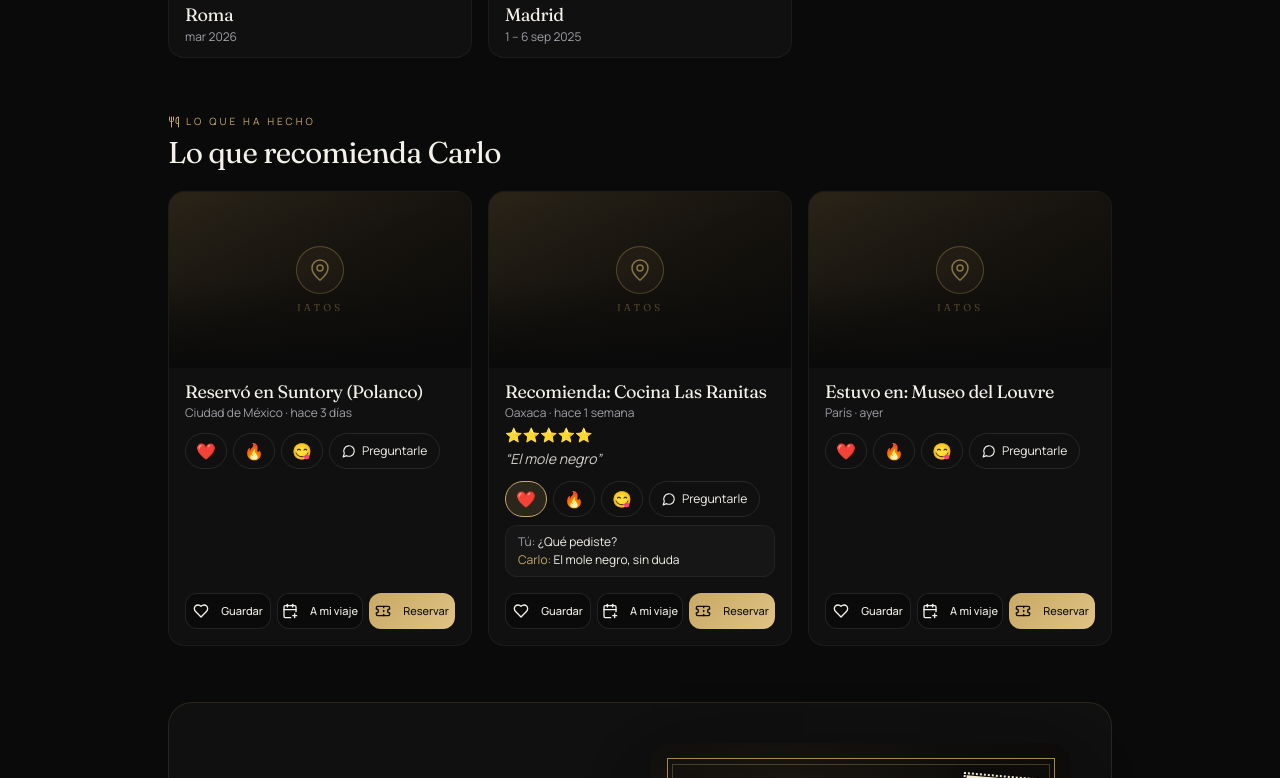
Scenario: actividad del amigo › «Preguntarle» manda la pregunta por RPC y la deja esperando respuesta
The width and height of the screenshot is (1280, 778).
(page scrolled)
Step 1. Click the button "Preguntarle" below "Ciudad de México · hace 3 días" → (385, 451), box [329, 433, 440, 469]
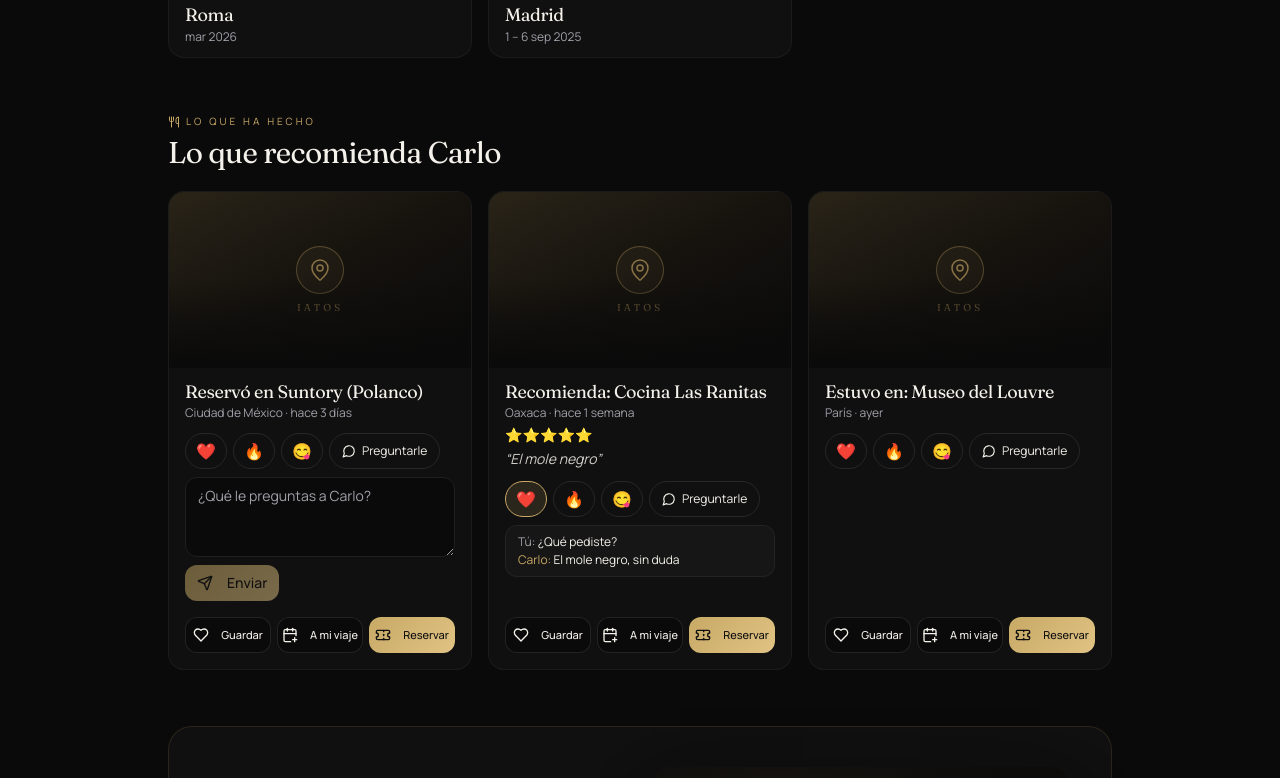
Step 2. Type "¿Qué pediste?" into the text box named "Pregunta para Carlo" → (320, 517), box [185, 477, 455, 557]
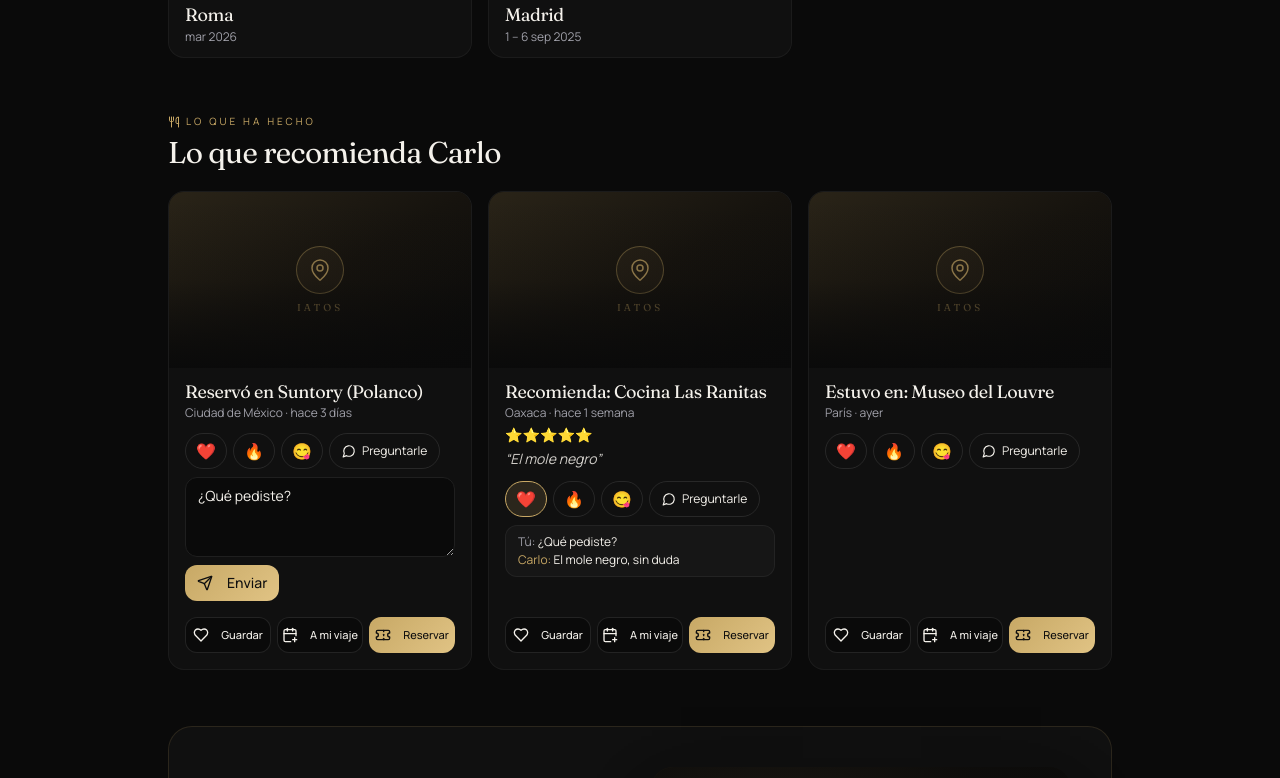
Step 3. Click the button "Enviar" → (232, 583), box [185, 565, 279, 601]
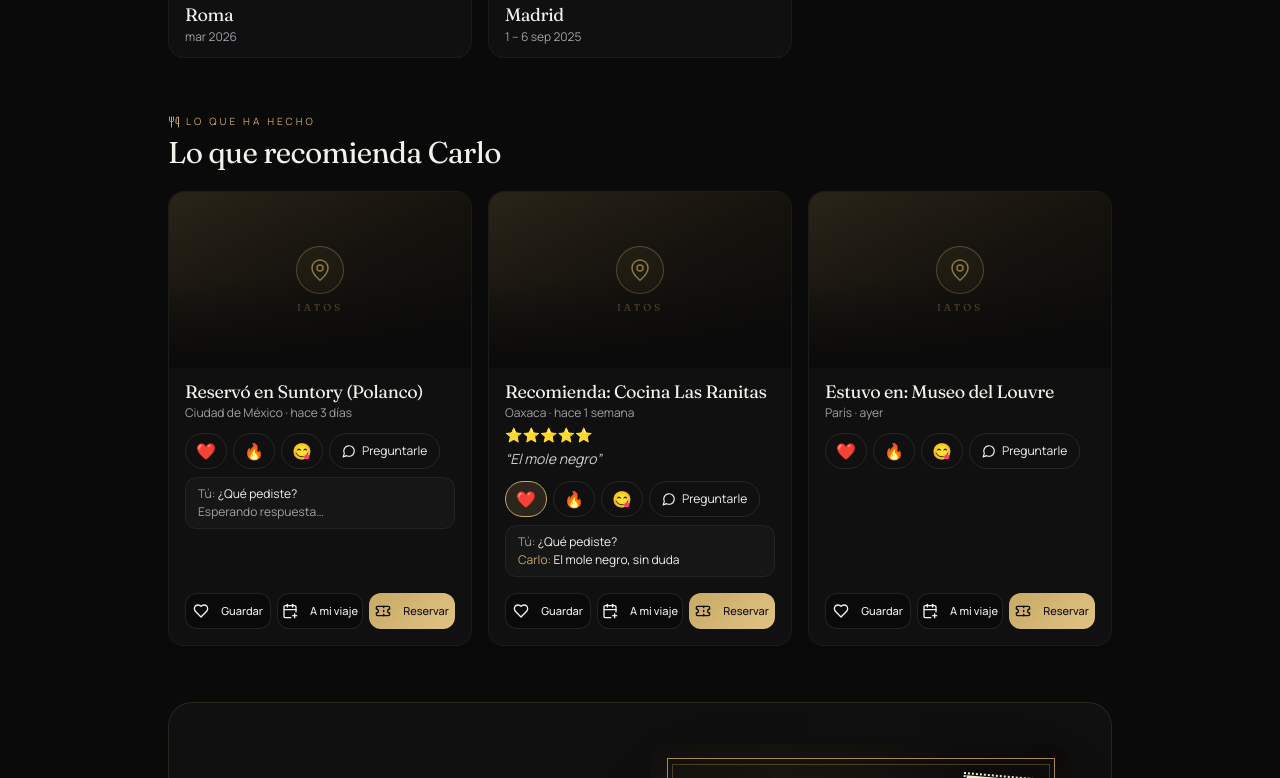
Now the text "Esperando respuesta…" is shown, box [198, 503, 324, 520]
